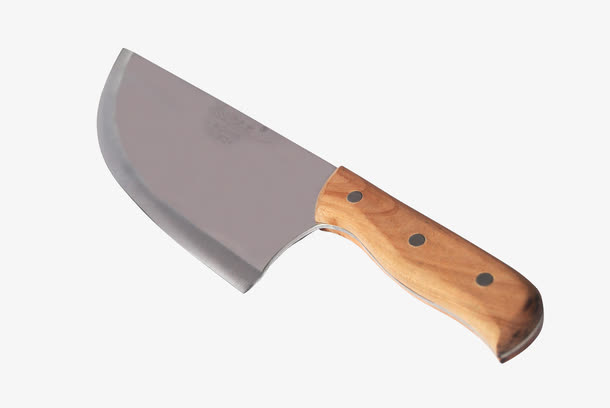knief: (94, 49, 549, 370)
